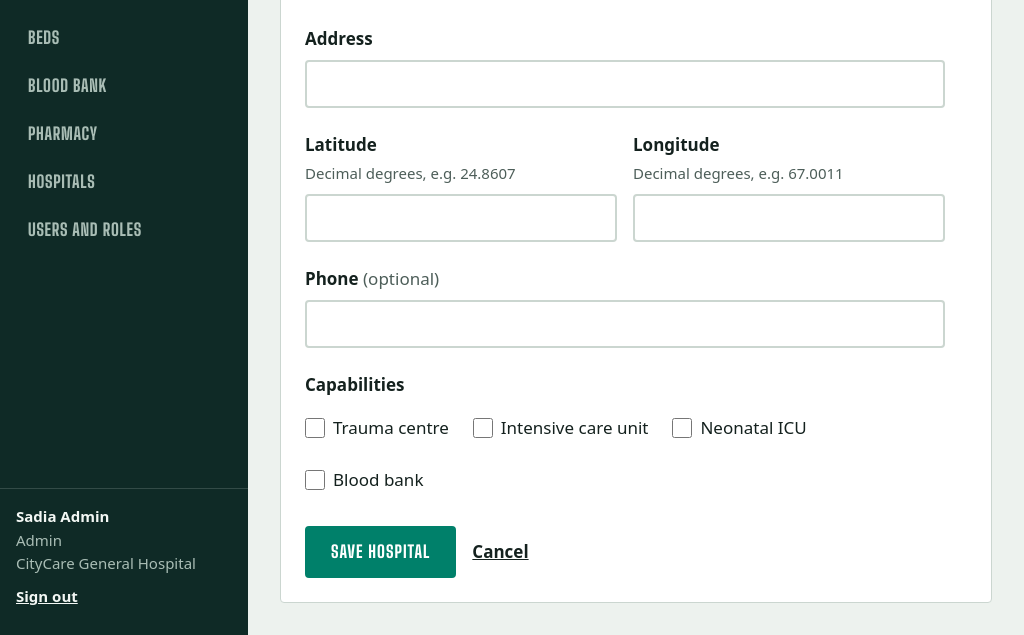
Test: HospitalFormPage (story 1.3 Hospital registration and capability profile) › explains every missing field and moves focus to the first one
The image size is (1024, 635).
(page scrolled)
Click the button "Save hospital" at (381, 552), box [305, 526, 456, 578]
(page scrolled)
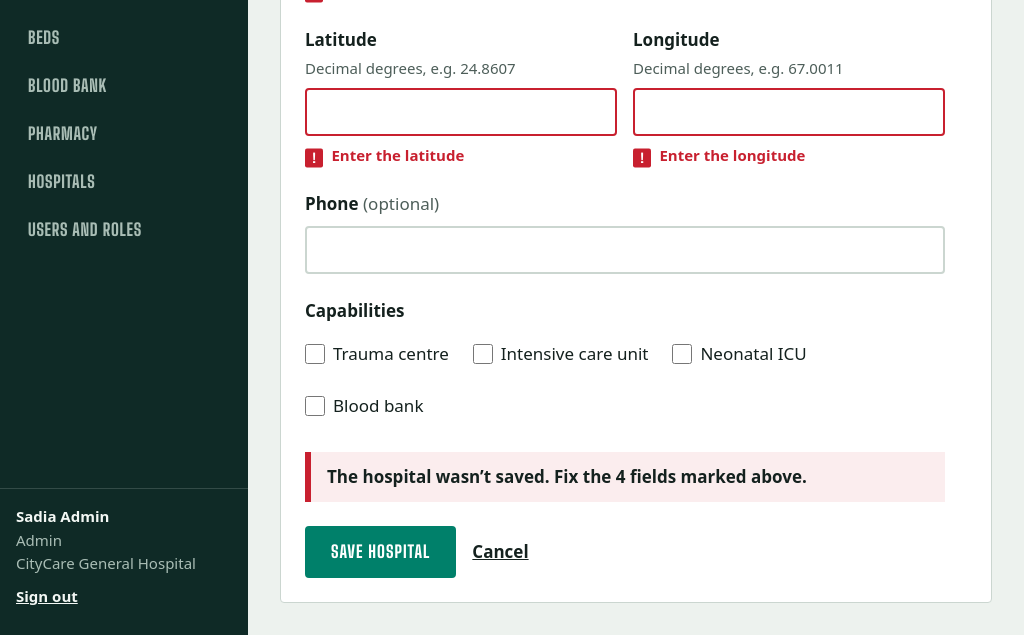
Expected: the text "Enter the longitude" is shown, [659, 145, 805, 165]
Expected: the message reads "The hospital wasn’t saved. Fix the 4 fields marked above.", [327, 465, 807, 488]
